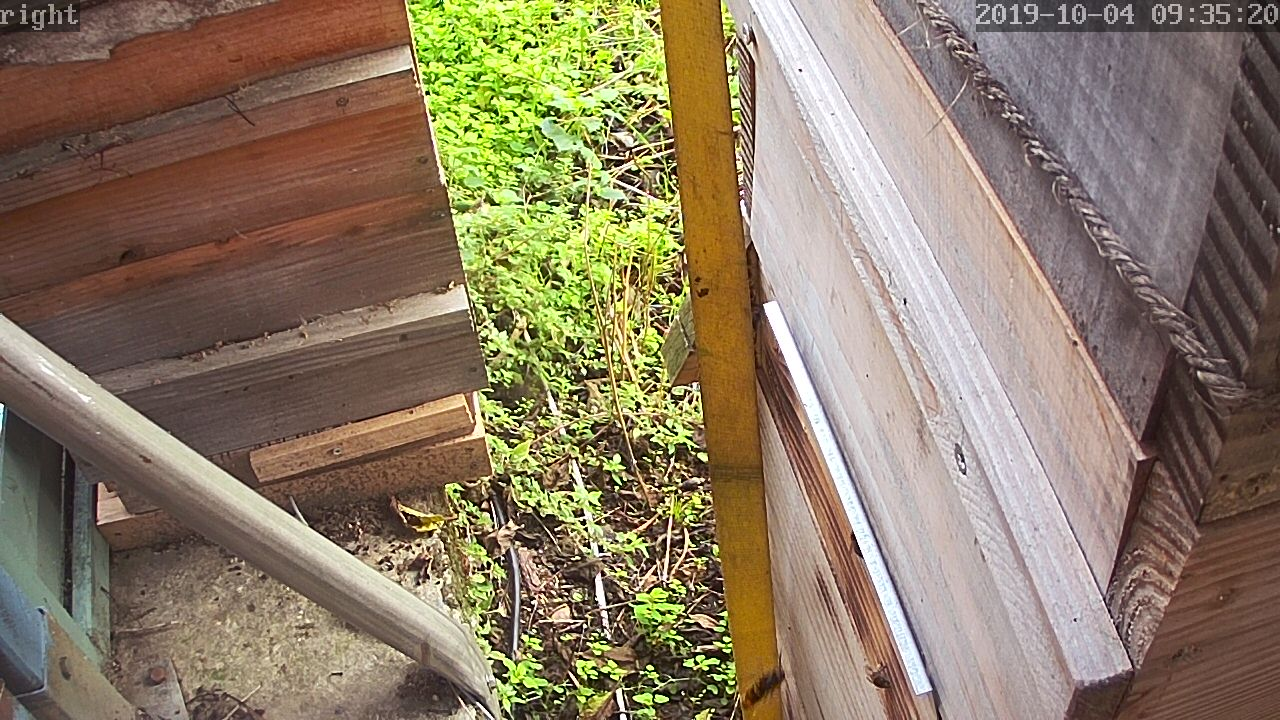bee: (860, 658, 901, 699), (841, 530, 870, 561)
hornet: (735, 662, 787, 713)
